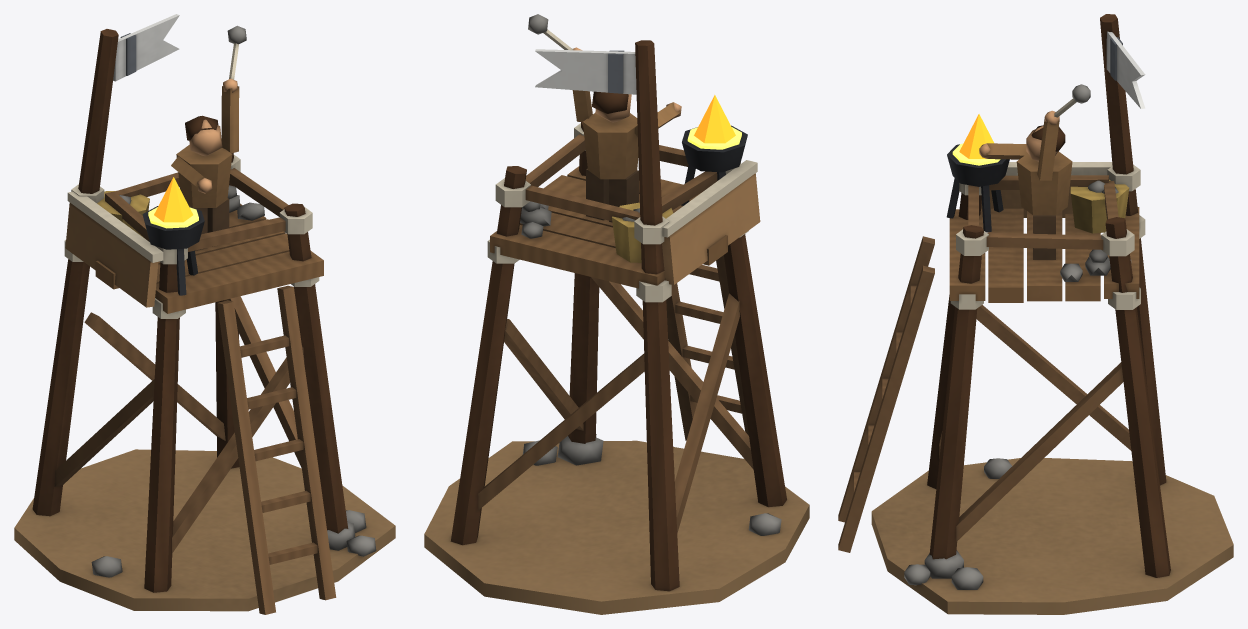
Rendered from tower_l1.glb.
The picture shows the model from 3 angles, left to right: view 1: azimuth 30°, elevation 25°; view 2: azimuth 150°, elevation 25°; view 3: azimuth 270°, elevation 25°; orthographic projection. The views are drawn at different scales.
Parts seen in each view (by area): view 1: tower_l1; view 2: tower_l1; view 3: tower_l1.
Boxes of the visible parts, left/top/right/bottom form: tower_l1: left=14, top=14, right=395, bottom=614; tower_l1: left=424, top=14, right=809, bottom=614; tower_l1: left=838, top=14, right=1233, bottom=614.
Size of the model in its own units: 0.4458 by 0.7115 by 0.5132.
Materials: 3 (1 with a texture image).
